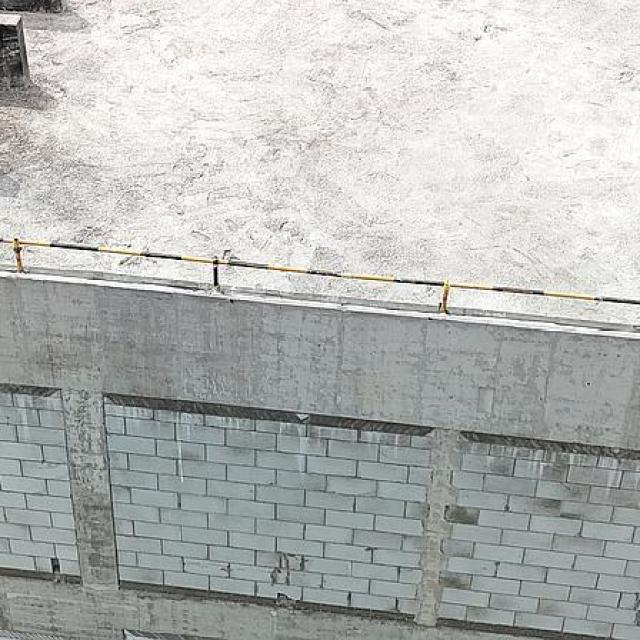edge_guardrail: (0, 238, 640, 312)
